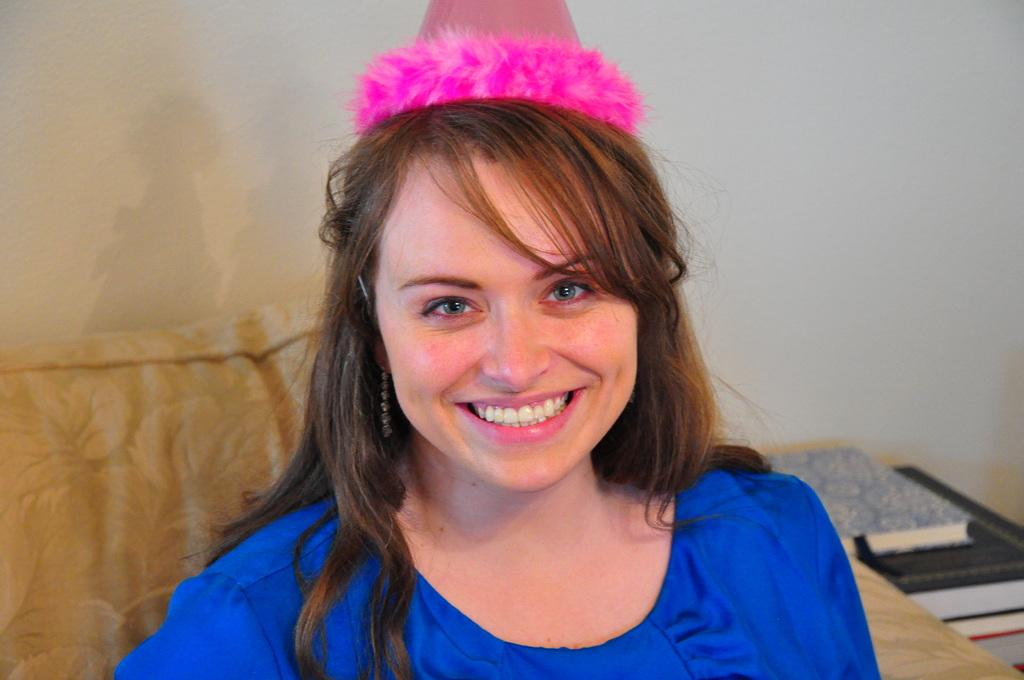Hat: (342, 0, 656, 133)
